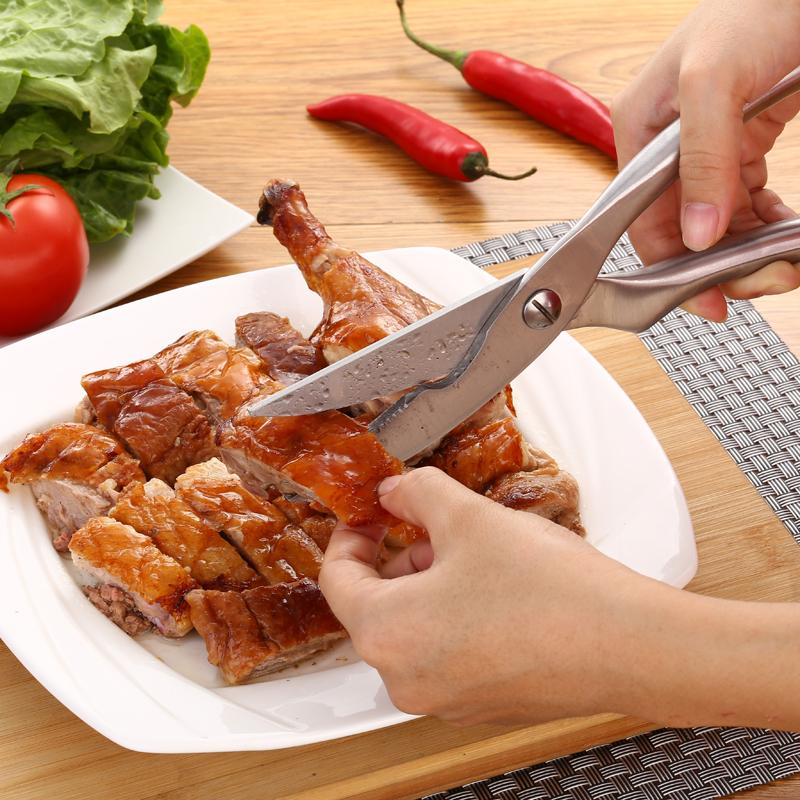scissor: (168, 89, 800, 547)
